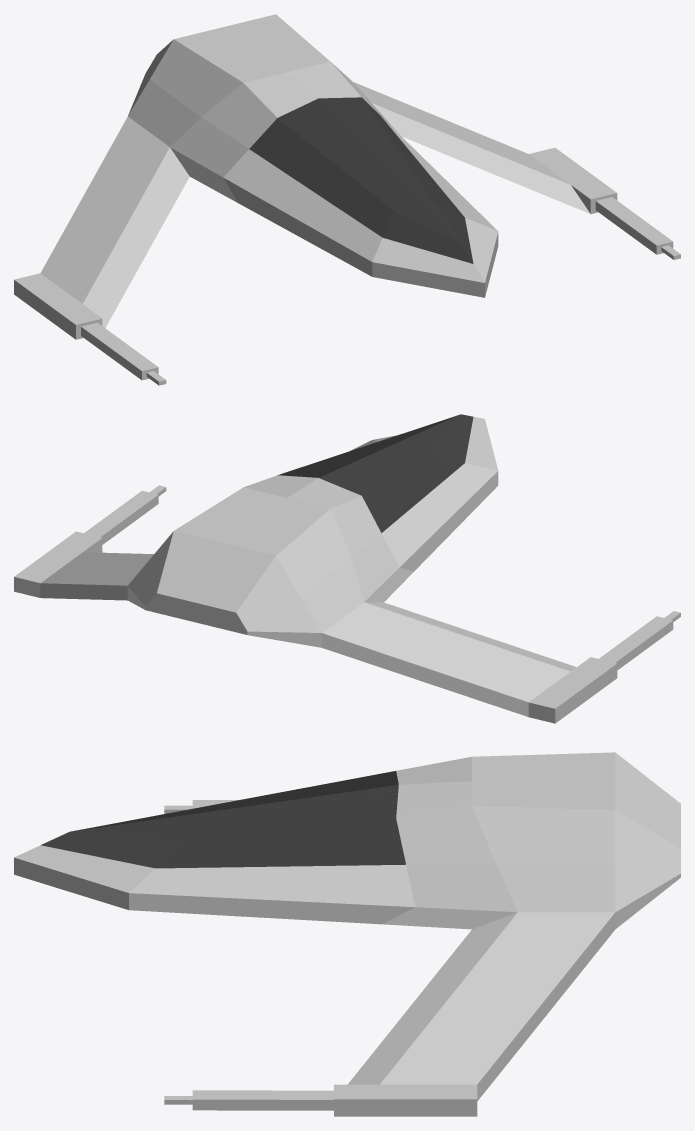
The model's file is SpaceShip.obj.
The picture shows the model from 3 angles, top to bottom: view 1: azimuth 30°, elevation 25°; view 2: azimuth 150°, elevation 25°; view 3: azimuth 270°, elevation 25°; orthographic projection. The views are drawn at different scales.
Visible parts, largest first — view 1: Cube_Cube_Black; view 2: Cube_Cube_Black; view 3: Cube_Cube_Black.
Part boxes in pixels (box(x1,y1,x2,y2)): Cube_Cube_Black: box(14, 14, 680, 385); Cube_Cube_Black: box(14, 414, 680, 723); Cube_Cube_Black: box(14, 752, 680, 1116).
Bounding box in the file's own units: 6.91 × 1.93 × 6.38.
1 material, 1 textured.
